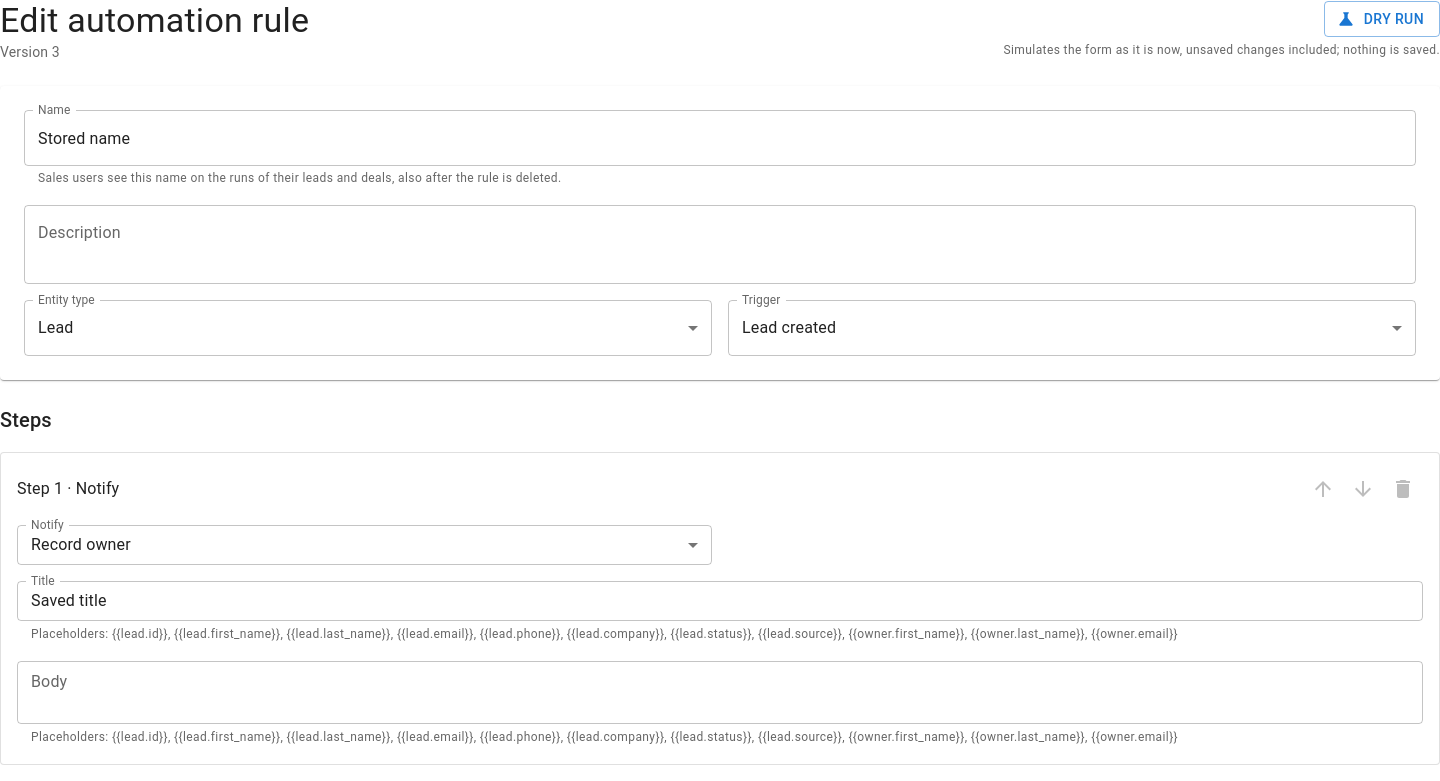
it: AutomationRuleForm › dry-runs the current unsaved values of an edited rule
Check: the heading "Edit automation rule" is shown, box 0,0 -> 309,42
Replace the text in the field labelled "Name" with "Typed name" at (720, 138), box 24,110 -> 1416,166
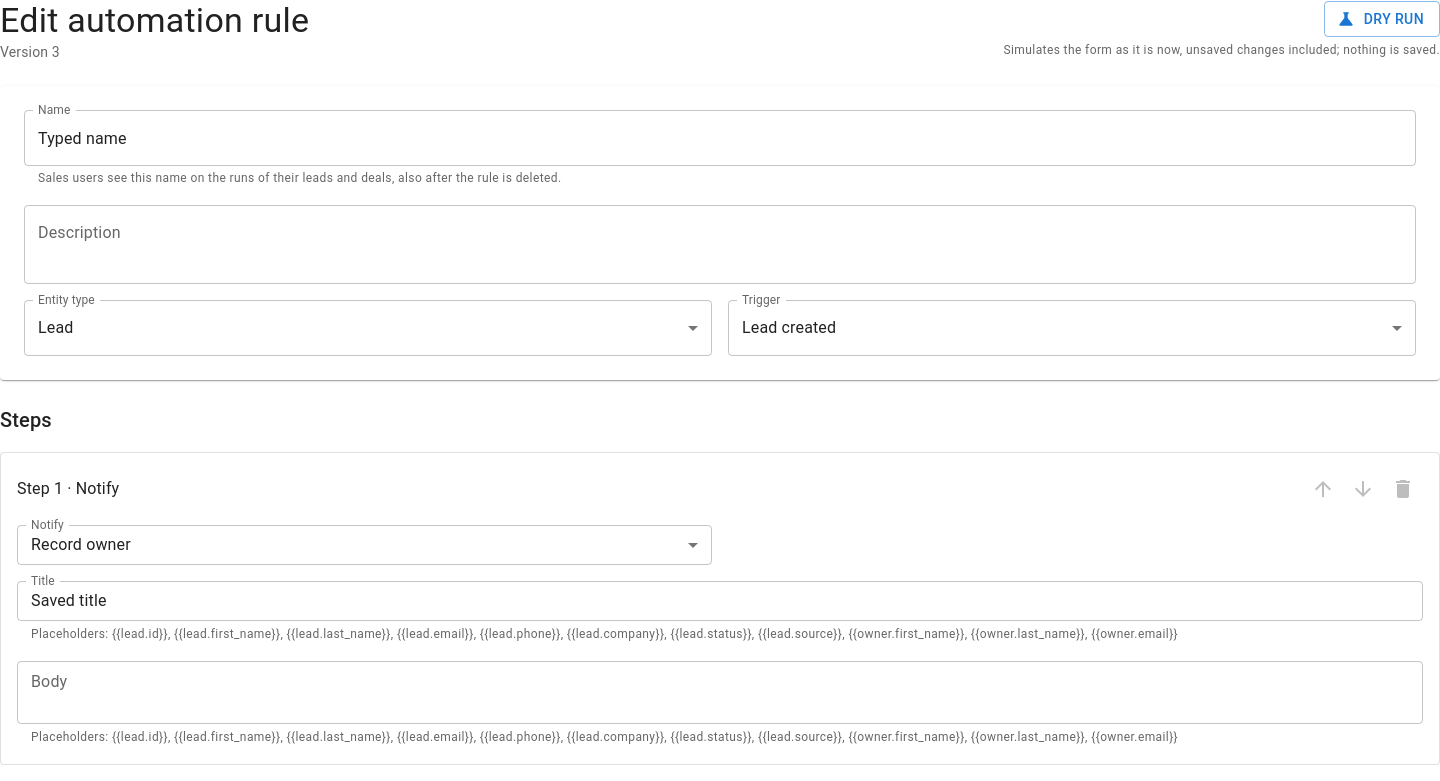
Replace the text in the field labelled "Title" with "Unsaved title" at (720, 601), box 17,581 -> 1423,621
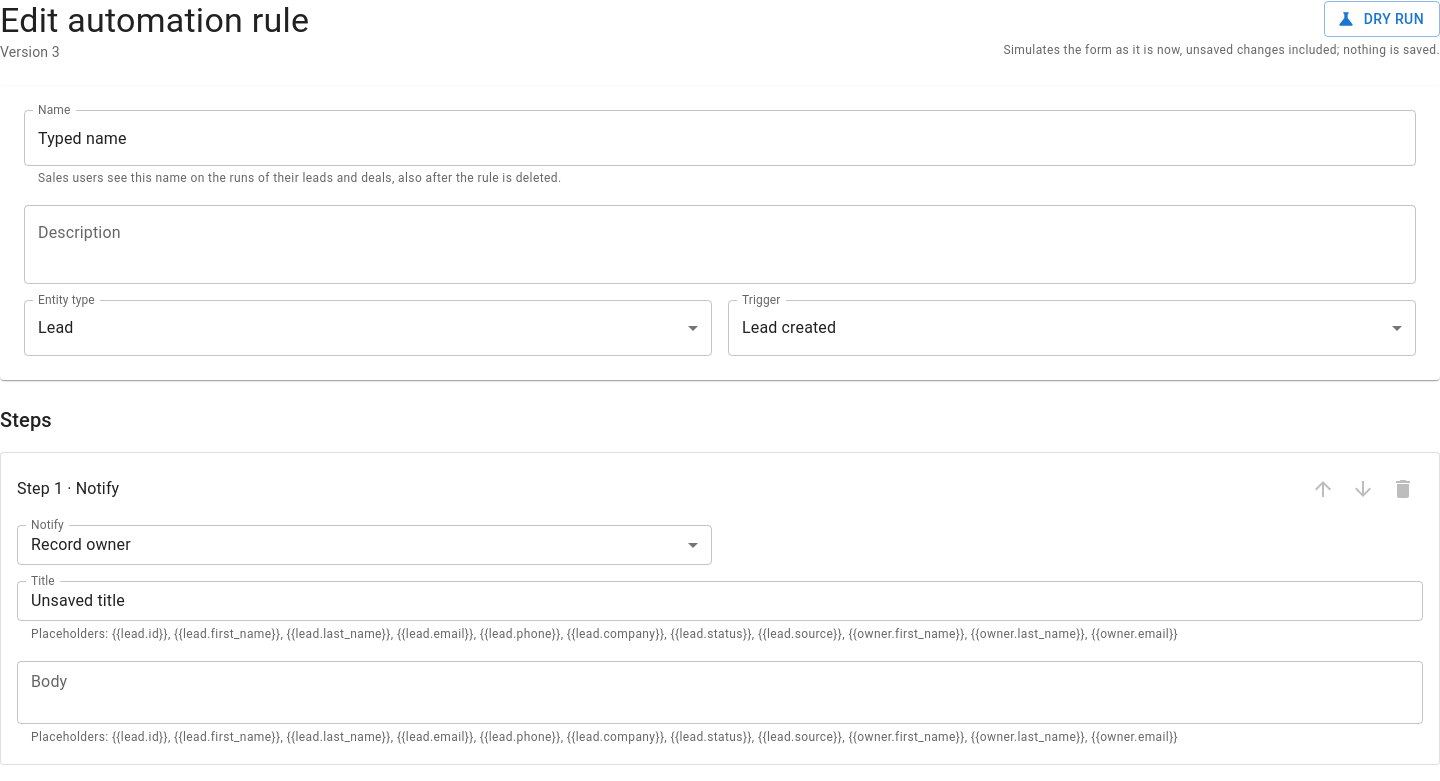
Check: the text with test id "dry-run-draft-notice" reads "Simulates the form as it is now, unsaved changes included; nothing is saved.", box 1004,43 -> 1439,57
Click the button "Dry run" at (1382, 19), box 1324,1 -> 1439,37
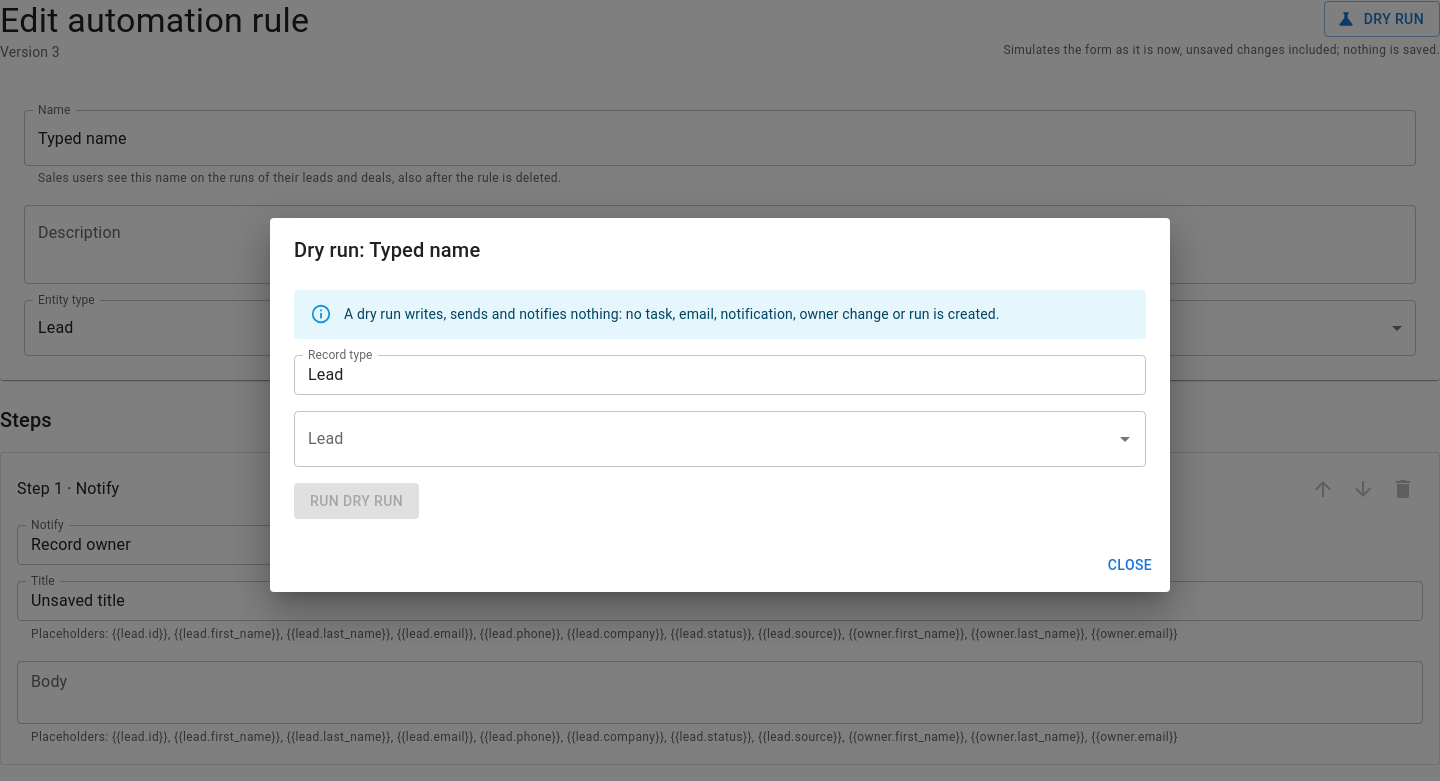
Press the mouse on the dropdown labelled "Lead" at (705, 438), box 303,420 -> 1107,458
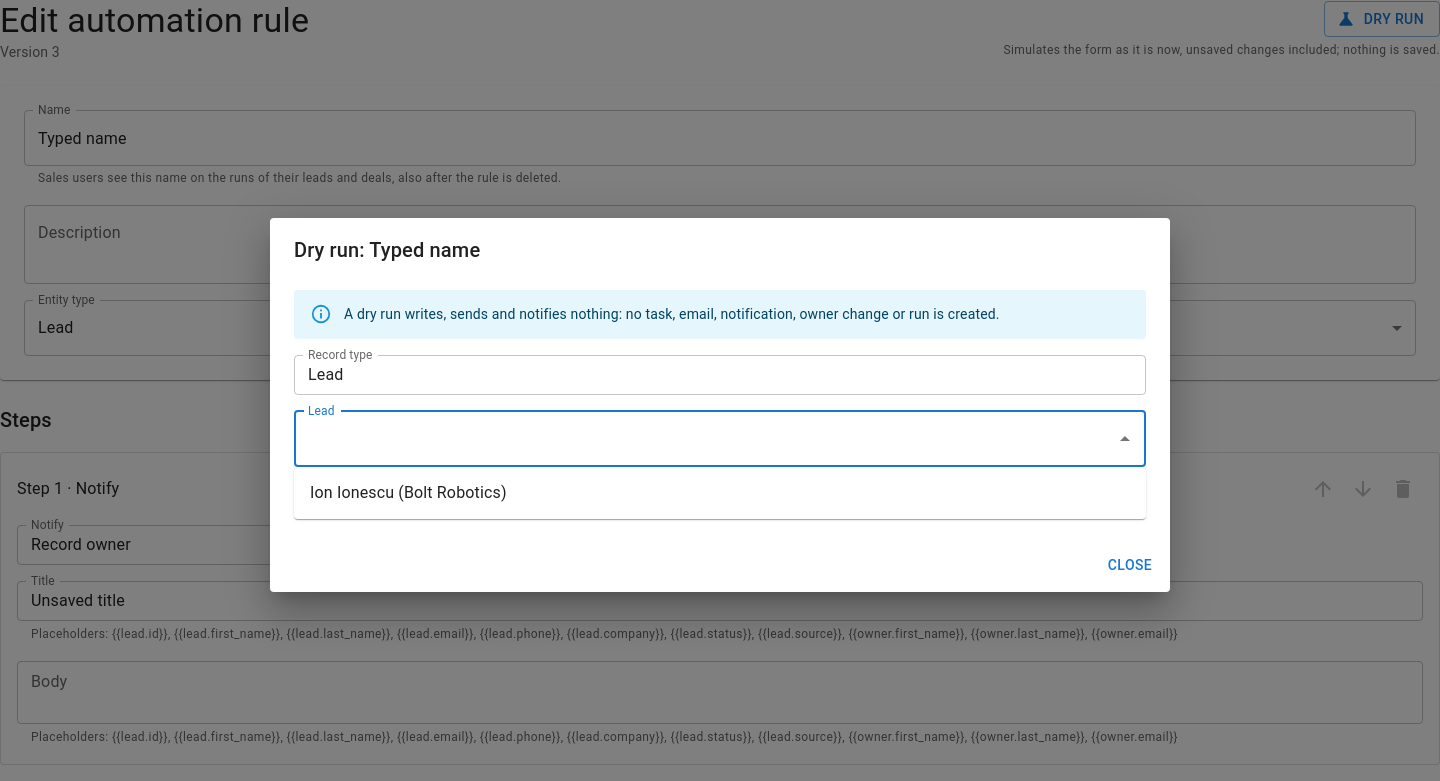
Click the option "Ion Ionescu (Bolt Robotics)" at (408, 492), box 310,483 -> 507,502
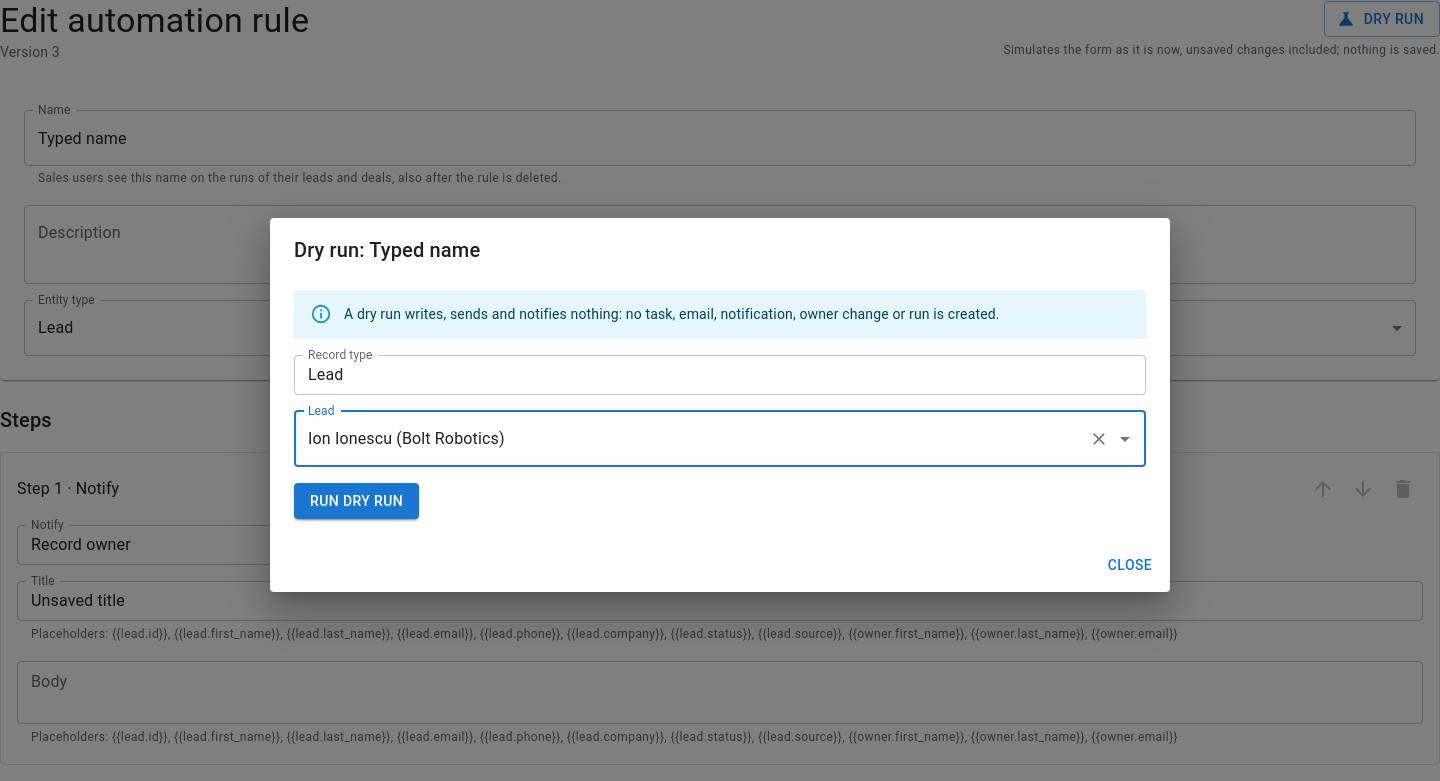
Check: the dropdown labelled "Lead" holds "Ion Ionescu (Bolt Robotics)", box 303,420 -> 1081,458
Click the button "Run dry run" at (357, 501), box 294,482 -> 419,519
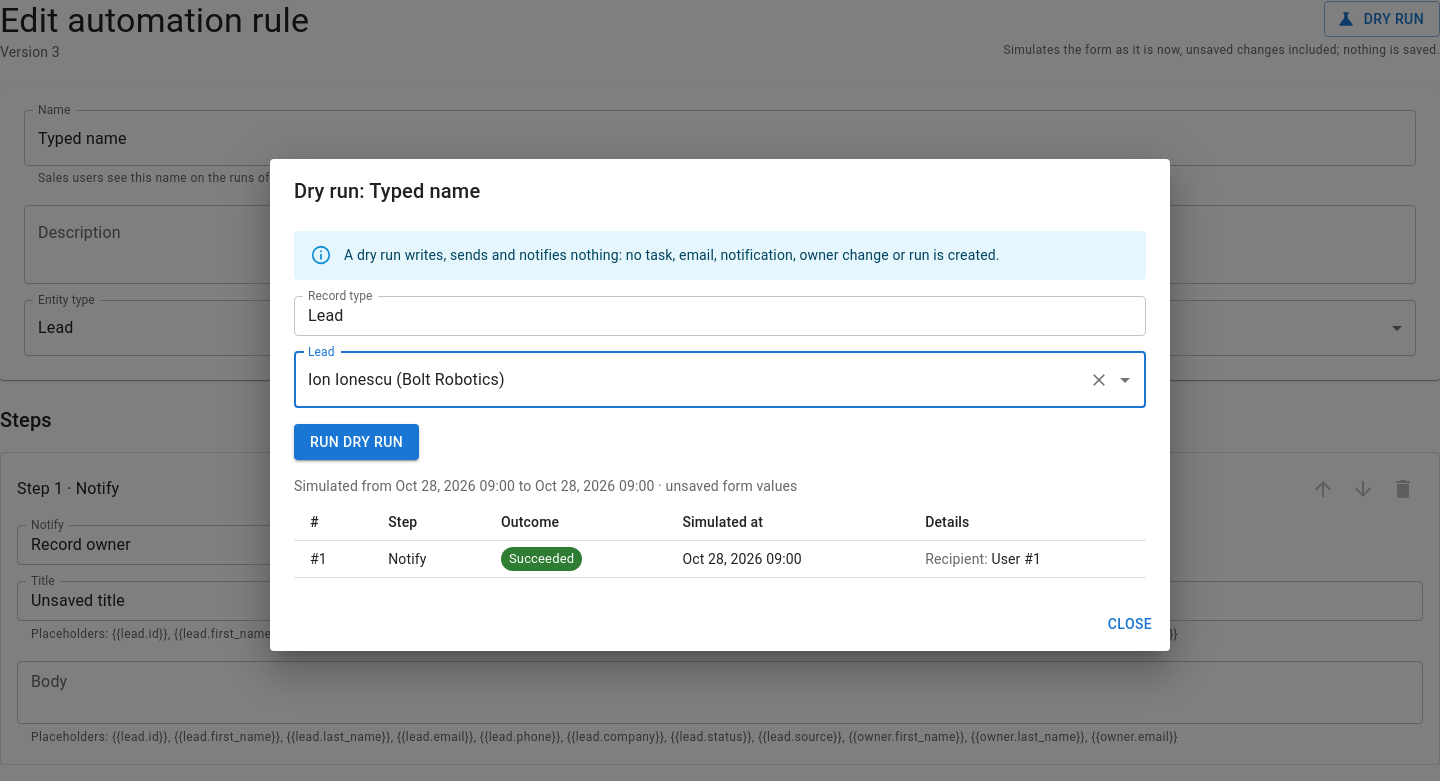
Check: the text "unsaved form values" is shown, box 294,478 -> 798,494
